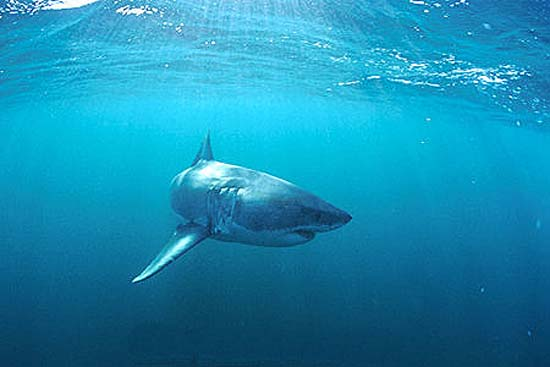Carcharodon_carcharias: (113, 115, 364, 293)
